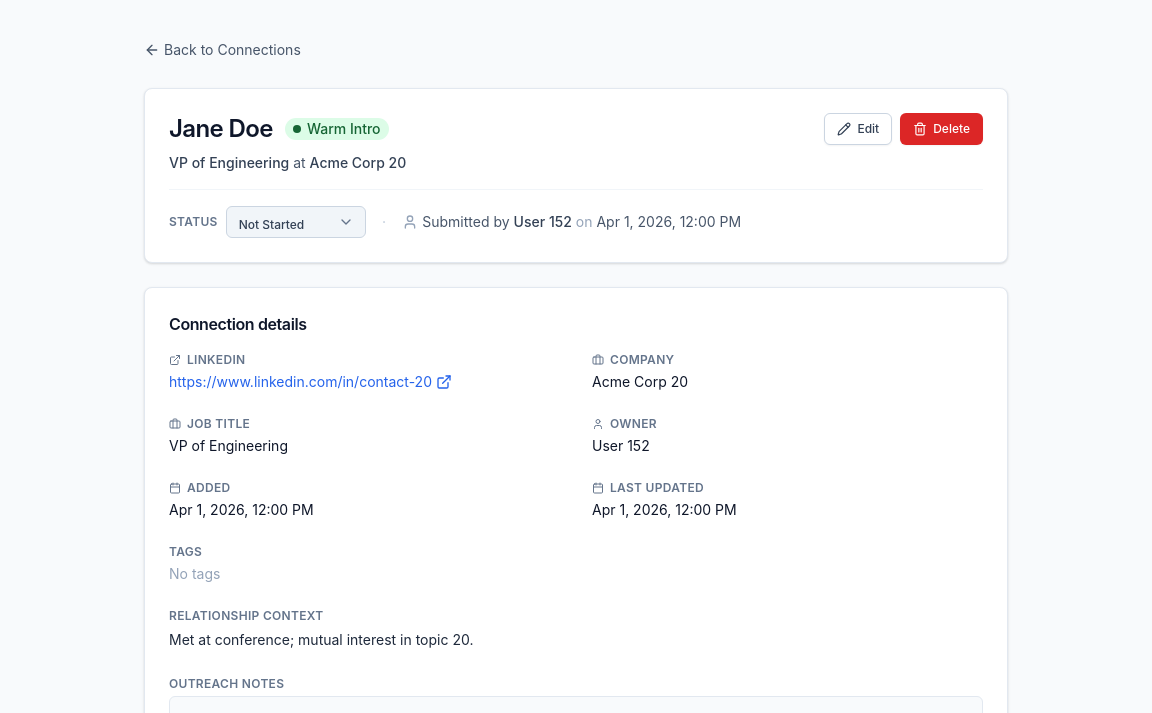
<ConnectionDetail /> › Soft-delete flow (F-007) › clicking the delete button opens the confirmation modal
What coordinates should you click on to do the following:
click the button with test id "connection-detail-delete"
I would click on:
 (942, 129)
Its box is x1=900 y1=113 x2=983 y2=145.
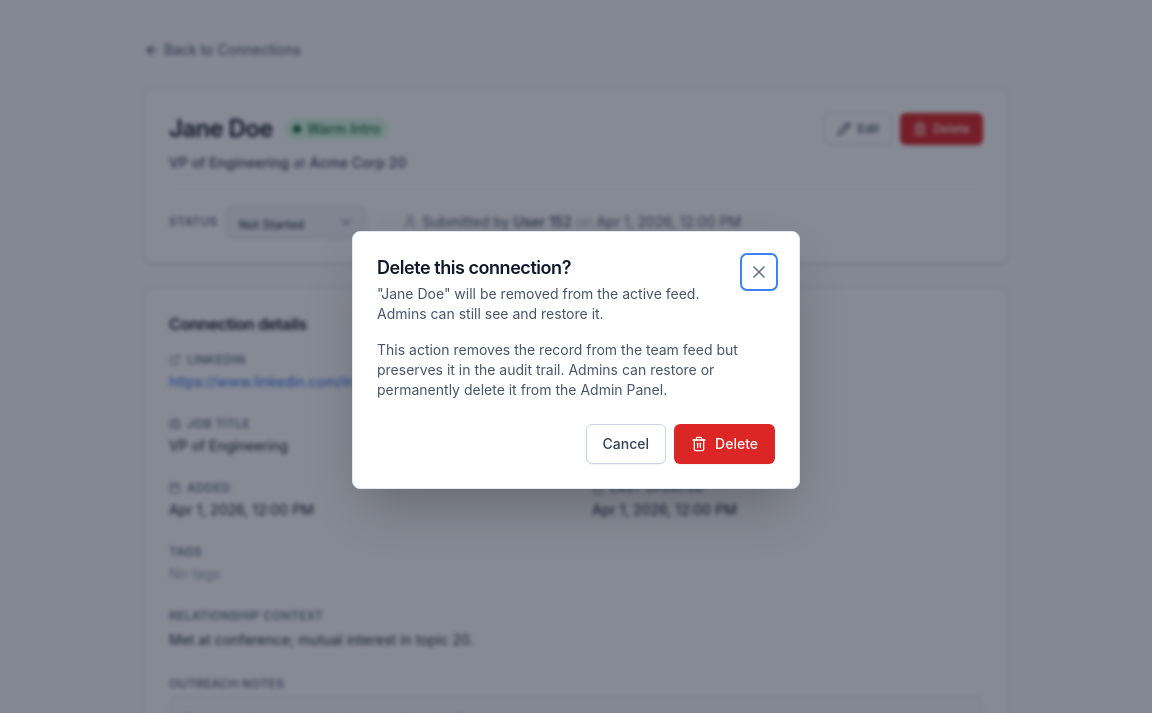
Expected: the dialog with test id "modal-dialog" is shown, x1=352 y1=231 x2=800 y2=489
Expected: the heading "Delete this connection?" is shown, x1=377 y1=257 x2=571 y2=278
Expected: the text "Jane Doe" is shown, x1=377 y1=285 x2=700 y2=322
